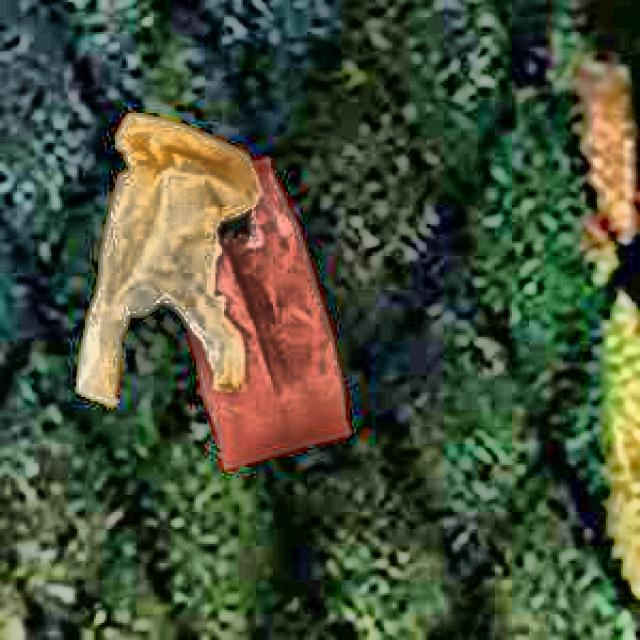Plastic: (158, 136, 379, 488), (62, 92, 255, 415)
